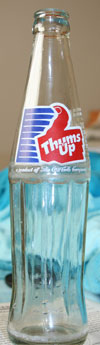emptybottle: (9, 8, 89, 345)
